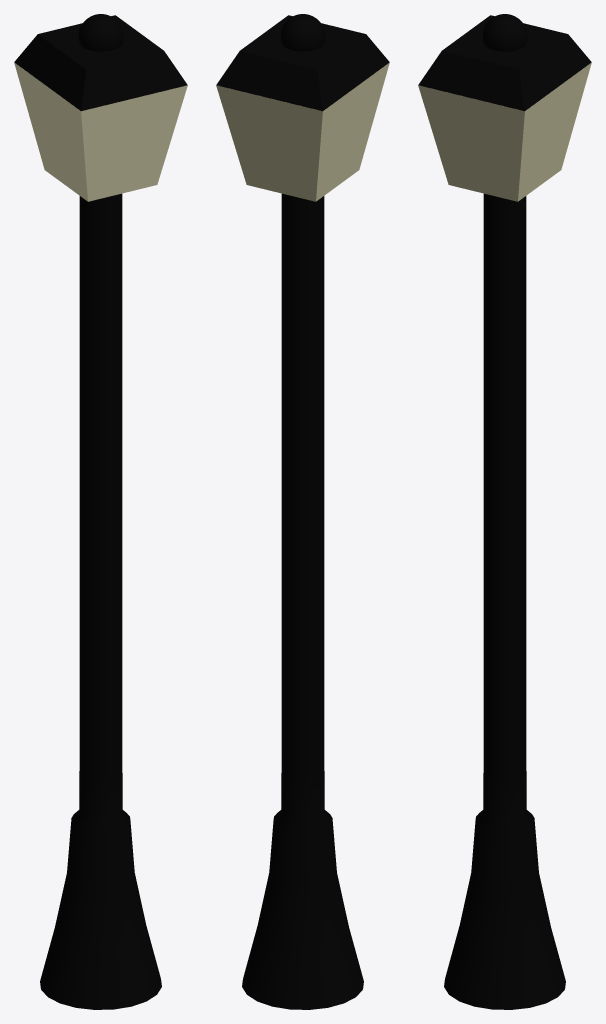
File: Streetlight.gltf
The picture shows the model from 3 angles, left to right: view 1: azimuth 30°, elevation 25°; view 2: azimuth 150°, elevation 25°; view 3: azimuth 330°, elevation 25°; orthographic projection.
Visible parts, largest first — view 1: pCylinder1, pCube1, pCube2, pSphere1; view 2: pCylinder1, pCube1, pCube2, pSphere1; view 3: pCylinder1, pCube1, pCube2, pSphere1.
Part boxes in pixels (bbox=[...]): pCylinder1: bbox=[40, 193, 161, 1009]; pCube1: bbox=[14, 62, 187, 201]; pCube2: bbox=[14, 15, 187, 111]; pSphere1: bbox=[78, 14, 123, 51]; pCylinder1: bbox=[242, 193, 363, 1009]; pCube1: bbox=[216, 62, 389, 201]; pCube2: bbox=[216, 15, 389, 111]; pSphere1: bbox=[280, 14, 325, 51]; pCylinder1: bbox=[444, 193, 565, 1009]; pCube1: bbox=[418, 62, 591, 201]; pCube2: bbox=[418, 15, 591, 111]; pSphere1: bbox=[482, 14, 527, 51].
Size of the model in its own units: 0.0373 by 0.323 by 0.0405.
